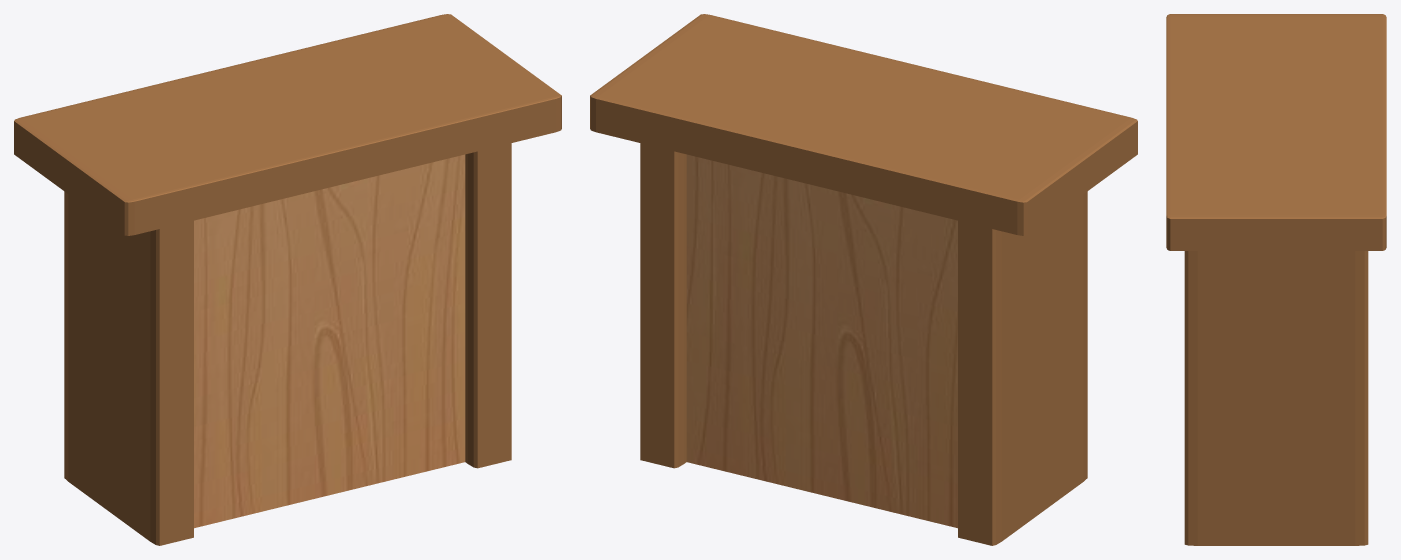
The model's file is bar.fbx.
3 views of the same model, side by side, from view 1: azimuth 30°, elevation 25°; view 2: azimuth 150°, elevation 25°; view 3: azimuth 270°, elevation 25° (orthographic). The views are drawn at different scales.
Parts seen in each view (by area): view 1: Bar; view 2: Bar; view 3: Bar.
Boxes of the visible parts, left/top/right/bottom form: Bar: left=14, top=14, right=561, bottom=545; Bar: left=590, top=14, right=1137, bottom=545; Bar: left=1166, top=14, right=1386, bottom=545.
Size of the model in its own units: 1320 by 1040 by 600.
Materials: 2 (1 with a texture image).
